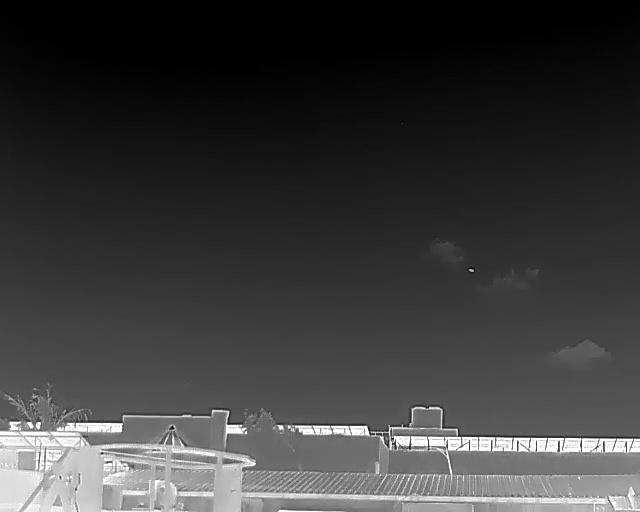fpv-drone: (468, 267, 474, 272)
